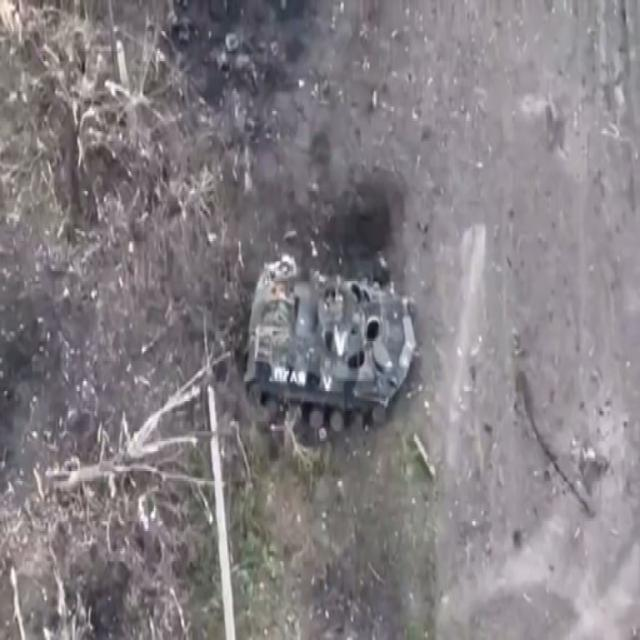APC-IFV: (236, 244, 422, 436)
